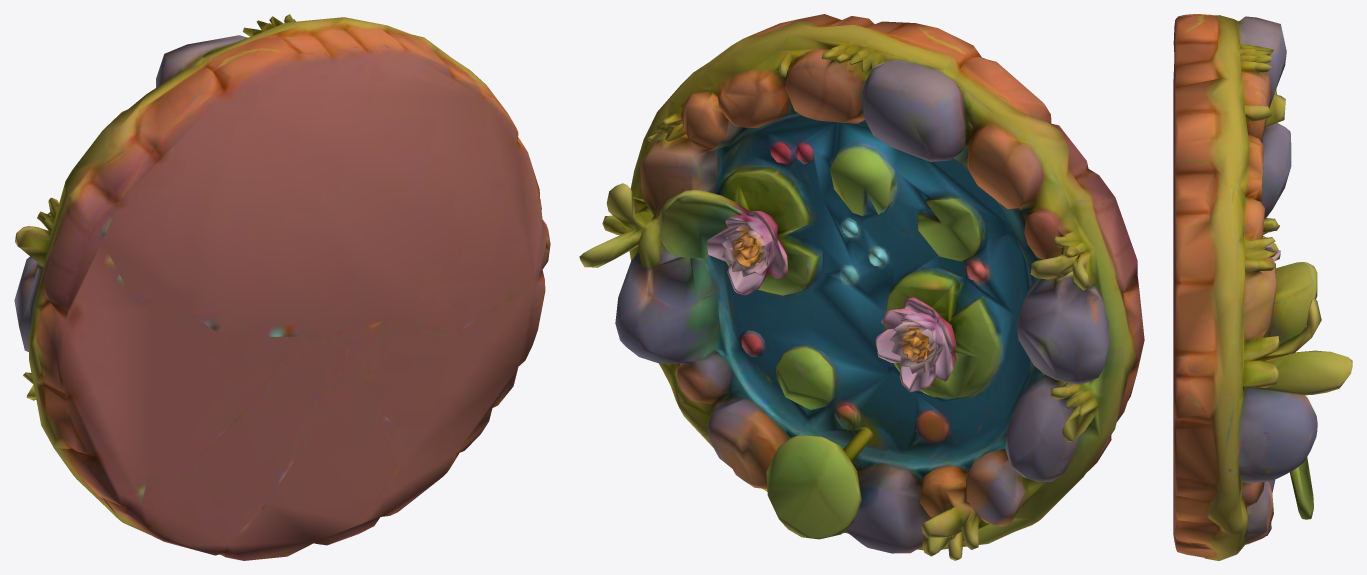
3 renders of one model, left to right at view 1: azimuth 30°, elevation 25°; view 2: azimuth 150°, elevation 25°; view 3: azimuth 270°, elevation 25°, orthographic. The views are drawn at different scales.
Visible parts, largest first — view 1: material; view 2: material; view 3: material.
Part boxes in pixels (x1,y1,x2,y2): material: [14, 14, 550, 560]; material: [579, 14, 1144, 560]; material: [1173, 14, 1352, 560].
Bounding box in the file's own units: 1 × 0.9727 × 0.3222.
1 material, 1 textured.
